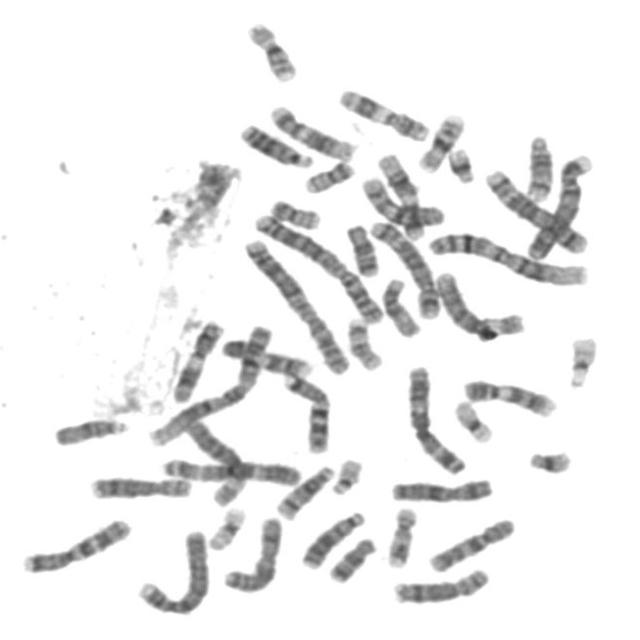A1: (143, 316, 278, 448), (424, 225, 594, 288)
A2: (240, 232, 355, 375), (248, 207, 386, 326)
A3: (403, 359, 470, 475), (156, 450, 306, 488)
B4: (522, 147, 597, 262), (133, 523, 214, 617)
B5: (480, 163, 593, 256), (366, 212, 445, 320)
C10: (424, 511, 522, 574), (356, 169, 449, 229)
C11: (334, 82, 435, 143), (168, 314, 228, 404)
C12: (264, 98, 360, 163), (372, 146, 430, 241)
C6: (430, 266, 530, 342), (180, 412, 252, 508)
C7: (17, 511, 136, 575), (278, 366, 336, 456)
C8: (388, 562, 495, 606), (86, 469, 197, 502)
C9: (458, 373, 562, 419), (218, 333, 316, 379)
D13: (296, 504, 369, 571), (235, 118, 318, 170)
D14: (273, 459, 339, 521), (522, 128, 558, 202)
D15: (378, 272, 426, 338), (49, 412, 133, 448)
E16: (243, 15, 303, 83), (414, 108, 469, 174)
E17: (382, 500, 422, 570), (343, 312, 387, 372)
E18: (326, 530, 382, 584), (341, 217, 383, 278)
F19: (450, 394, 498, 444), (205, 500, 251, 552)
F20: (300, 154, 360, 195), (266, 193, 326, 231)
G21: (524, 443, 578, 476), (444, 142, 480, 185)
G22: (564, 330, 602, 390), (328, 452, 368, 497)
X: (220, 511, 287, 594), (386, 472, 498, 505)
